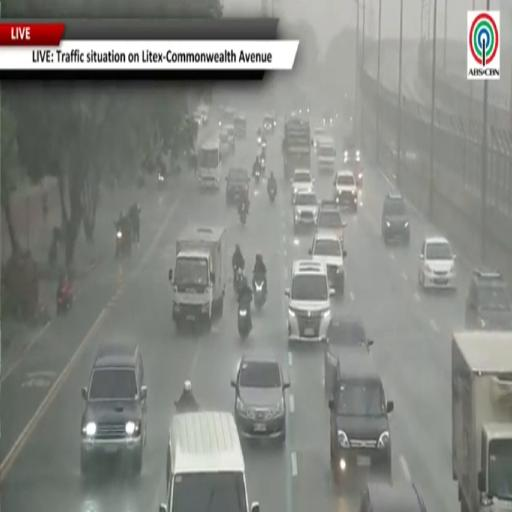car: (329, 347, 393, 484), (81, 344, 146, 474), (231, 357, 289, 441), (324, 314, 373, 398), (285, 261, 335, 343), (465, 269, 511, 330), (309, 233, 347, 295), (418, 236, 456, 290), (359, 482, 426, 511), (382, 194, 410, 245), (316, 201, 346, 246), (293, 190, 318, 232), (343, 137, 363, 187), (334, 170, 357, 212), (226, 168, 250, 204), (291, 169, 314, 203), (343, 150, 363, 188), (317, 136, 335, 175), (219, 128, 234, 154), (313, 126, 326, 150), (219, 107, 235, 125), (234, 116, 246, 138), (225, 124, 235, 150), (264, 114, 276, 133), (323, 112, 338, 127), (198, 105, 209, 124), (193, 111, 202, 126)
motorcycle: (57, 282, 74, 315), (116, 226, 131, 258), (238, 303, 251, 339), (254, 279, 266, 309), (175, 402, 200, 413), (234, 268, 244, 295), (239, 208, 247, 226), (158, 172, 166, 189), (268, 187, 276, 203), (254, 168, 261, 184), (260, 157, 266, 174)
truck: (452, 331, 511, 511), (169, 226, 227, 329), (282, 116, 311, 180)
